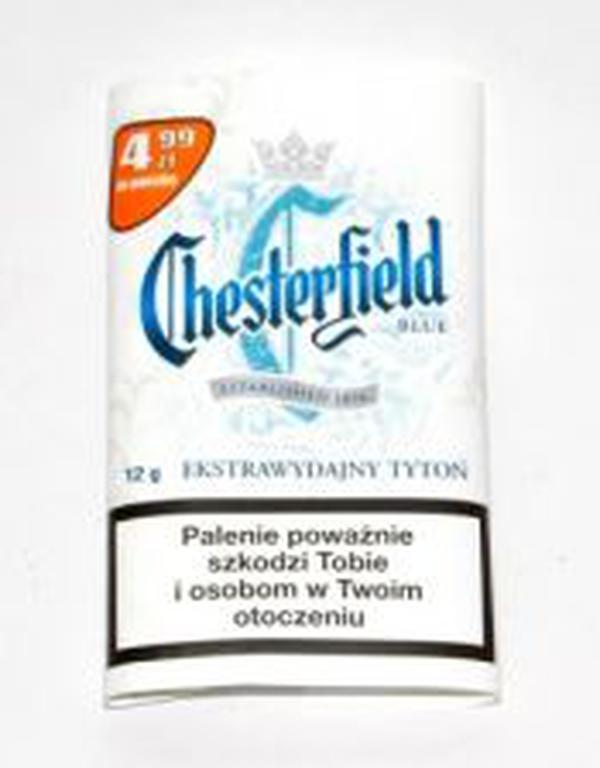chesterfield_blue: (111, 84, 490, 659)
